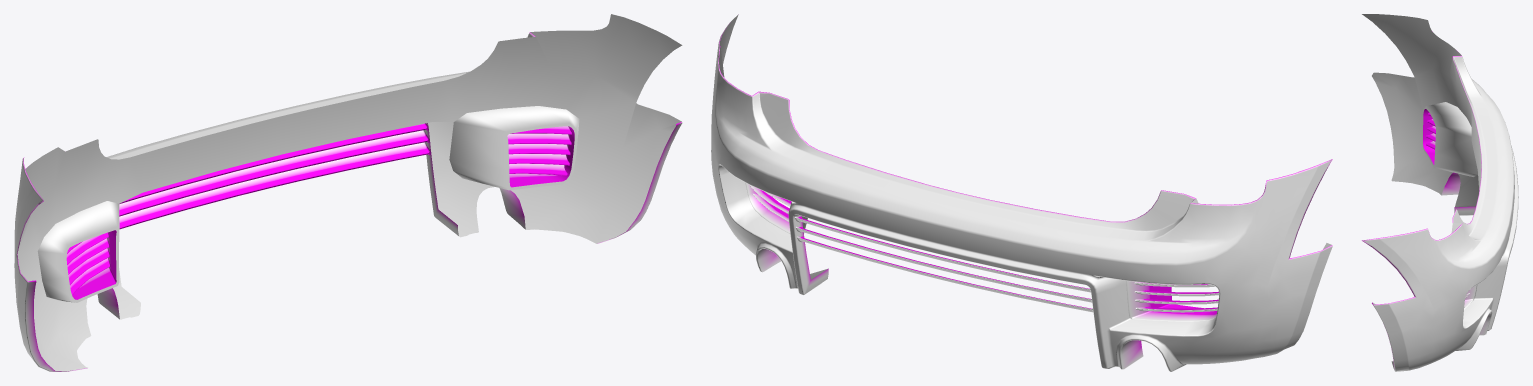
File: Car_Mini_CountrymanJCW_2017_BumperR_SetD.fbx
3 views of the same model, side by side, from view 1: azimuth 30°, elevation 25°; view 2: azimuth 150°, elevation 25°; view 3: azimuth 270°, elevation 25° (orthographic). The views are drawn at different scales.
Parts seen in each view (by area): view 1: BumperR 6; view 2: BumperR 6; view 3: BumperR 6.
Boxes of the visible parts, x1,y1,x2,y2 form: BumperR 6: (14, 14, 682, 371); BumperR 6: (711, 14, 1332, 371); BumperR 6: (1362, 14, 1518, 371).
Bounding box in the file's own units: 1.75 × 0.5203 × 0.4982.
